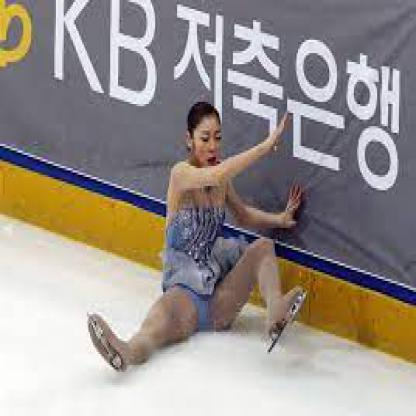Fall_Down: (86, 101, 305, 372)
